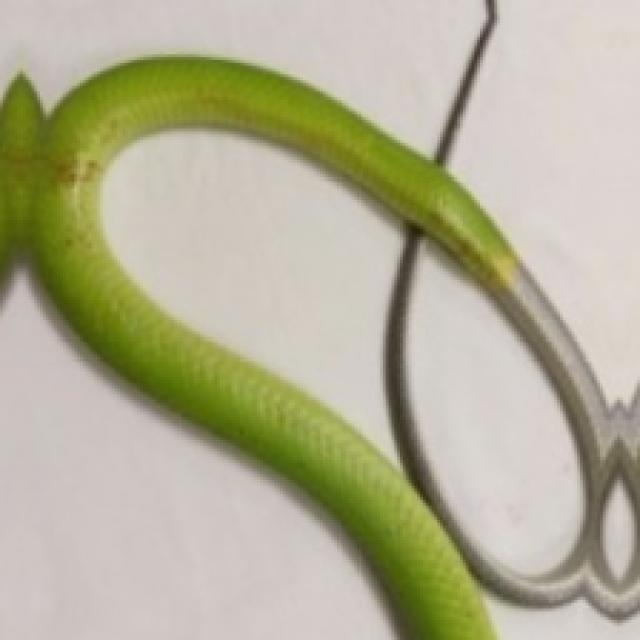red-tailed green ratsnake: (0, 57, 637, 637)
